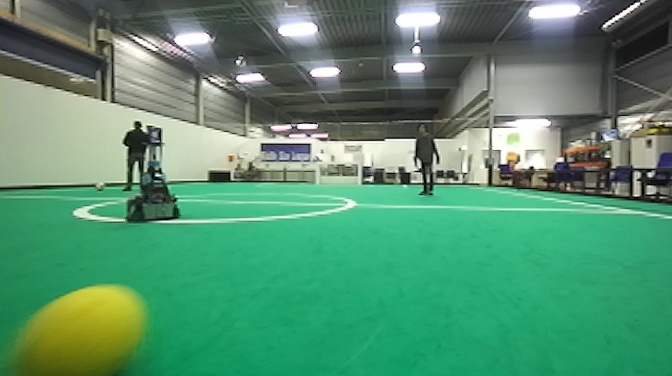ball: (3, 277, 155, 376), (92, 179, 107, 193)
goal: (315, 157, 362, 186)
goalpost: (356, 157, 362, 187), (315, 159, 320, 186)
human: (119, 118, 154, 193), (412, 122, 443, 199)
robot: (121, 140, 182, 226)
